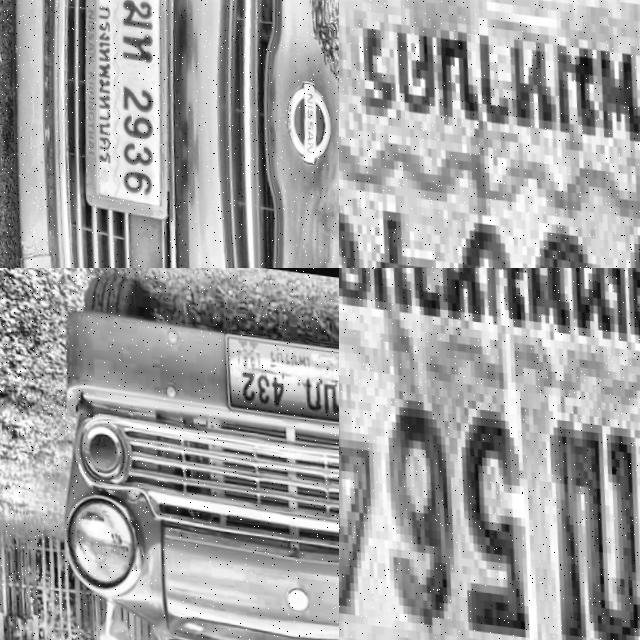license-plate: (339, 268, 640, 640), (339, 0, 640, 268), (121, 0, 324, 105), (217, 322, 339, 420)
